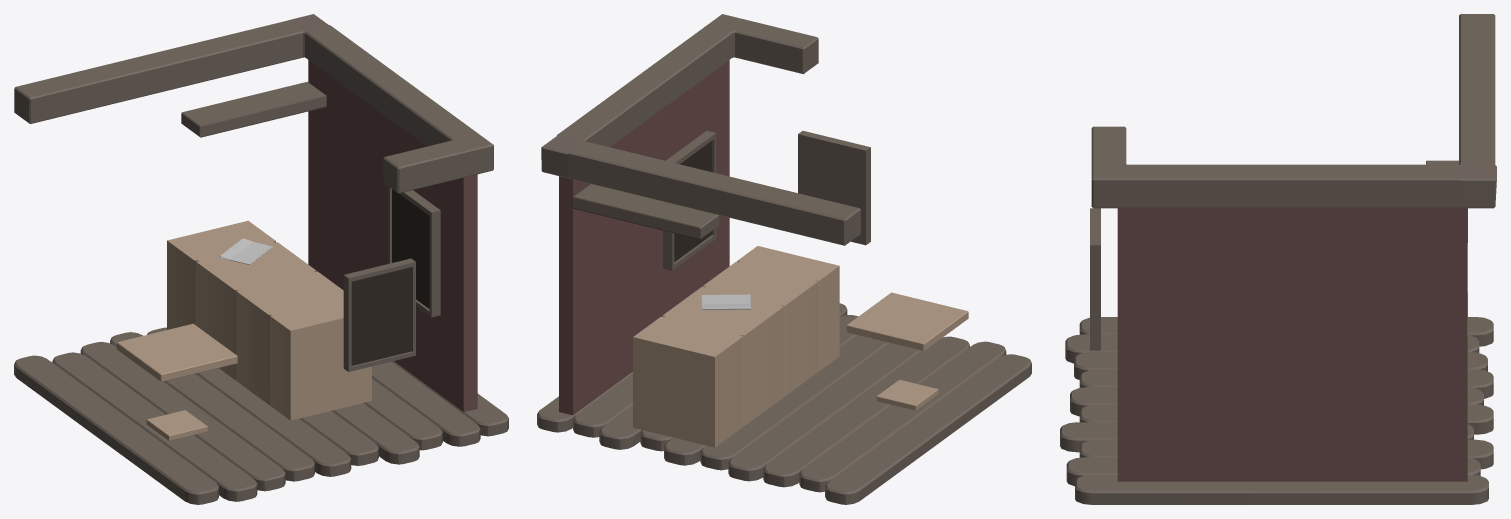
Rendered from CoffeeShopFBX.fbx.
3 views of the same model, side by side, from view 1: azimuth 30°, elevation 25°; view 2: azimuth 150°, elevation 25°; view 3: azimuth 270°, elevation 25° (orthographic). The views are drawn at different scales.
Visible parts, largest first — view 1: BrickWall, CounterWood, WallTrim, WoodBoard01, Advertisement, WoodBoard02, WoodBoard03, Menu, WoodBoard04, TableTop, Shelf, WoodBoard05 (+7 smaller); view 2: CounterWood, BrickWall, WallTrim, WoodBoard01, WoodBoard03, WoodBoard04, WoodBoard02, Advertisement, WoodBoard05, TableTop, Shelf, Menu (+7 smaller); view 3: BrickWall, WallTrim, WoodBoard10, Advertisement, WoodBoard06, WoodBoard07, WoodBoard08, WoodBoard09, WoodBoard04, WoodBoard05, WoodBoard03, WoodBoard01 (+1 smaller).
Boxes of the visible parts, x1,y1,x2,y2 form: BrickWall: [308, 60, 477, 411]; CounterWood: [167, 220, 371, 420]; WallTrim: [14, 14, 493, 193]; WoodBoard01: [14, 355, 218, 504]; Advertisement: [343, 258, 415, 371]; WoodBoard02: [52, 352, 257, 501]; WoodBoard03: [80, 341, 285, 491]; Menu: [388, 186, 440, 317]; WoodBoard04: [110, 332, 314, 481]; TableTop: [117, 323, 237, 381]; Shelf: [181, 81, 326, 137]; WoodBoard05: [147, 327, 351, 476]; CounterWood: [633, 246, 839, 447]; BrickWall: [559, 60, 729, 415]; WallTrim: [541, 14, 860, 245]; WoodBoard01: [825, 354, 1031, 504]; WoodBoard03: [763, 336, 969, 487]; WoodBoard04: [728, 343, 920, 481]; WoodBoard02: [799, 341, 1006, 492]; Advertisement: [798, 130, 870, 245]; WoodBoard05: [700, 335, 888, 470]; TableTop: [846, 292, 968, 351]; Shelf: [572, 184, 719, 239]; Menu: [663, 130, 716, 270]; BrickWall: [1117, 208, 1467, 481]; WallTrim: [1091, 14, 1496, 208]; WoodBoard10: [1075, 475, 1488, 504]; Advertisement: [1090, 208, 1100, 350]; WoodBoard06: [1079, 404, 1493, 434]; WoodBoard07: [1060, 422, 1473, 452]; WoodBoard08: [1079, 439, 1493, 469]; WoodBoard09: [1066, 457, 1480, 486]; WoodBoard04: [1079, 369, 1493, 398]; WoodBoard05: [1070, 387, 1483, 416]; WoodBoard03: [1074, 352, 1487, 379]; WoodBoard01: [1079, 317, 1493, 346].
Bounding box in the file's own units: 5.78 × 4.9 × 6.08.
